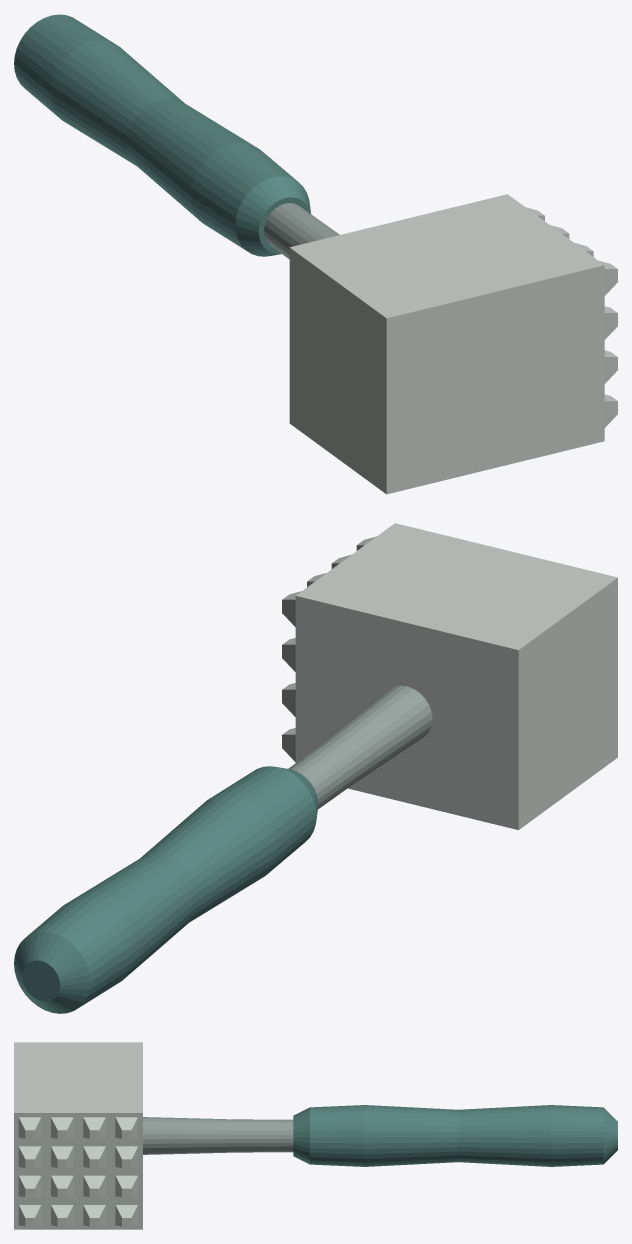
3 renders of one model, top to bottom at view 1: azimuth 30°, elevation 25°; view 2: azimuth 150°, elevation 25°; view 3: azimuth 270°, elevation 25°, orthographic. The views are drawn at different scales.
Visible parts, largest first — view 1: WholeSquareHeadFlatEndAndSixteenTruncatedPyramids, WholeLongWaistedGrip, WholeStraightInsertedNeck; view 2: WholeSquareHeadFlatEndAndSixteenTruncatedPyramids, WholeLongWaistedGrip, WholeStraightInsertedNeck; view 3: WholeSquareHeadFlatEndAndSixteenTruncatedPyramids, WholeLongWaistedGrip, WholeStraightInsertedNeck.
Boxes of the visible parts, <box> form: WholeSquareHeadFlatEndAndSixteenTruncatedPyramids: <box>289,194,617,494</box>; WholeLongWaistedGrip: <box>14,14,310,256</box>; WholeStraightInsertedNeck: <box>264,203,339,259</box>; WholeSquareHeadFlatEndAndSixteenTruncatedPyramids: <box>282,523,617,829</box>; WholeLongWaistedGrip: <box>14,766,318,1013</box>; WholeStraightInsertedNeck: <box>288,685,432,809</box>; WholeSquareHeadFlatEndAndSixteenTruncatedPyramids: <box>14,1042,142,1229</box>; WholeLongWaistedGrip: <box>293,1105,617,1166</box>; WholeStraightInsertedNeck: <box>143,1117,293,1154</box>.
Size of the model in its own units: 0.077 by 0.054 by 0.253.
